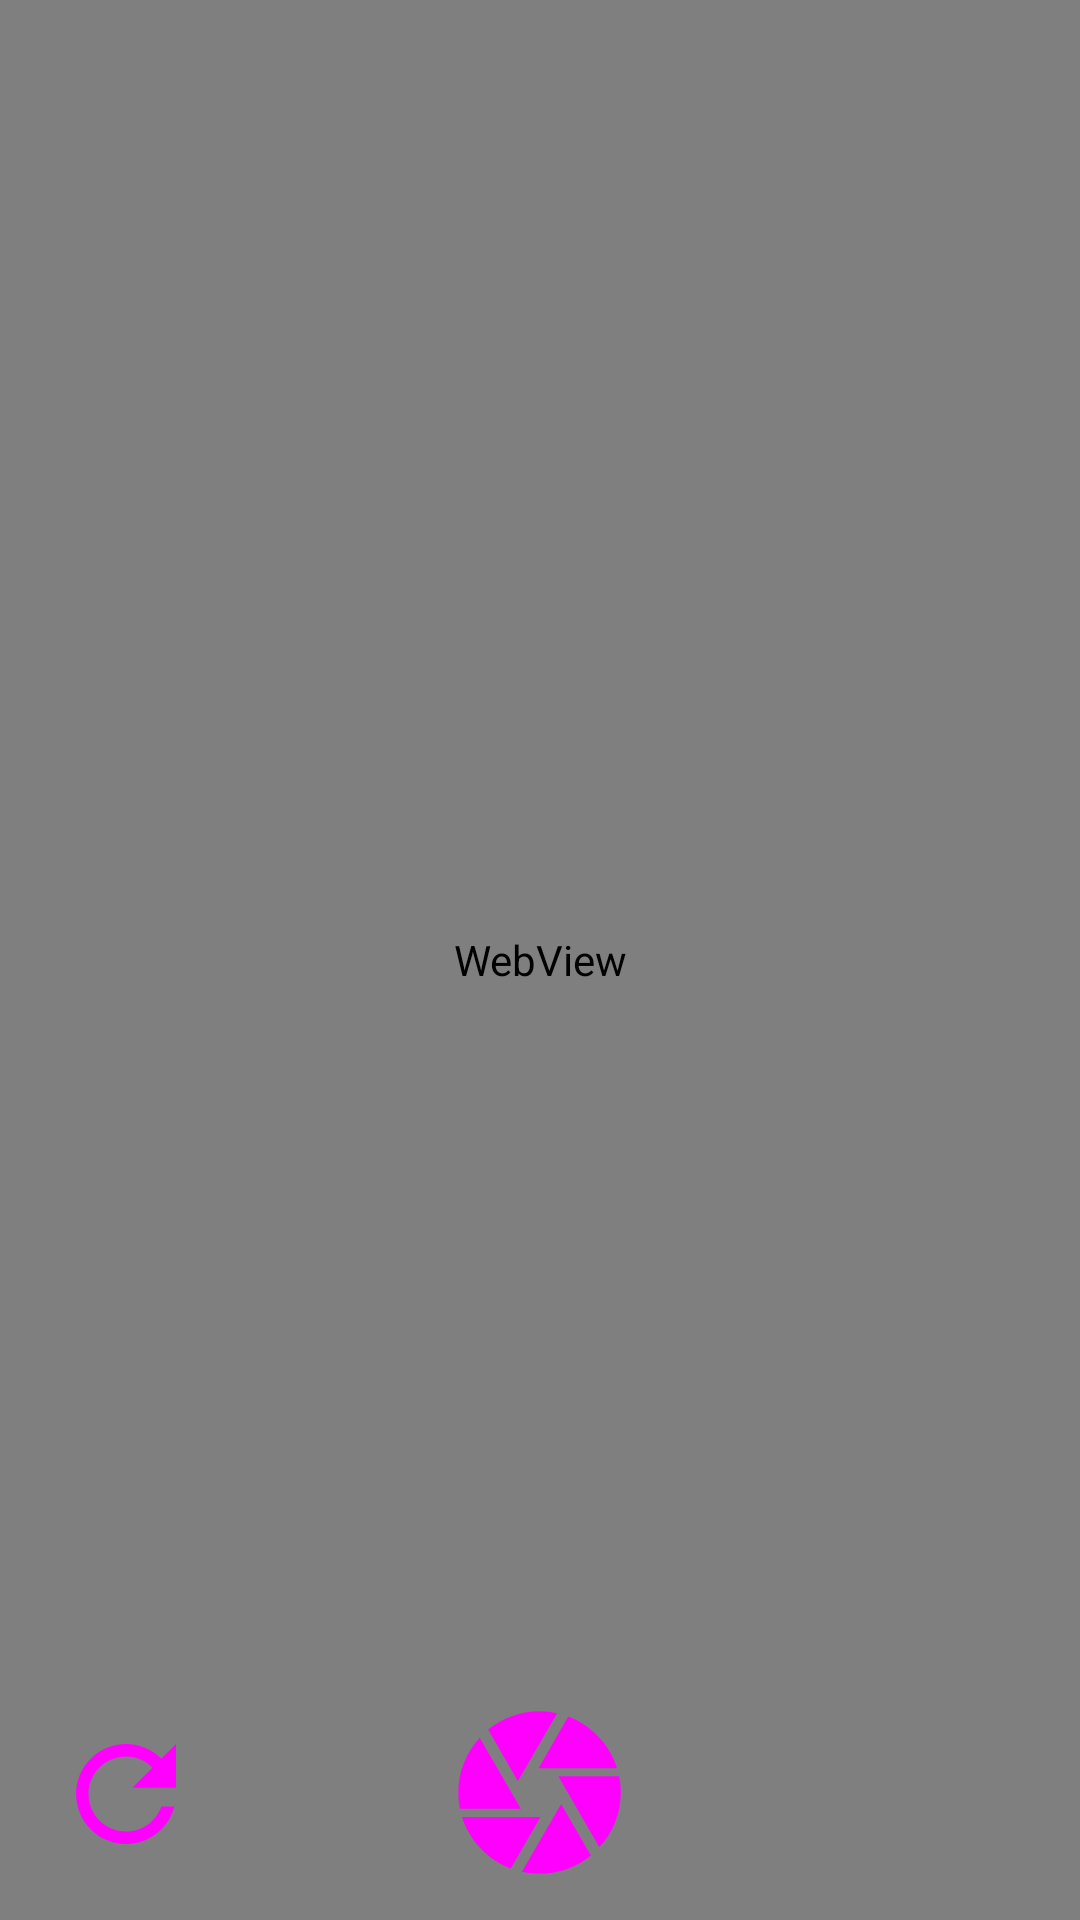

Locate icon controls on the screen. Image size 1080 x 1920, boxes as bbox(x1, y1, x2, y2).
reload: bbox(76, 1744, 176, 1844)
shutter: bbox(458, 1711, 621, 1874)
